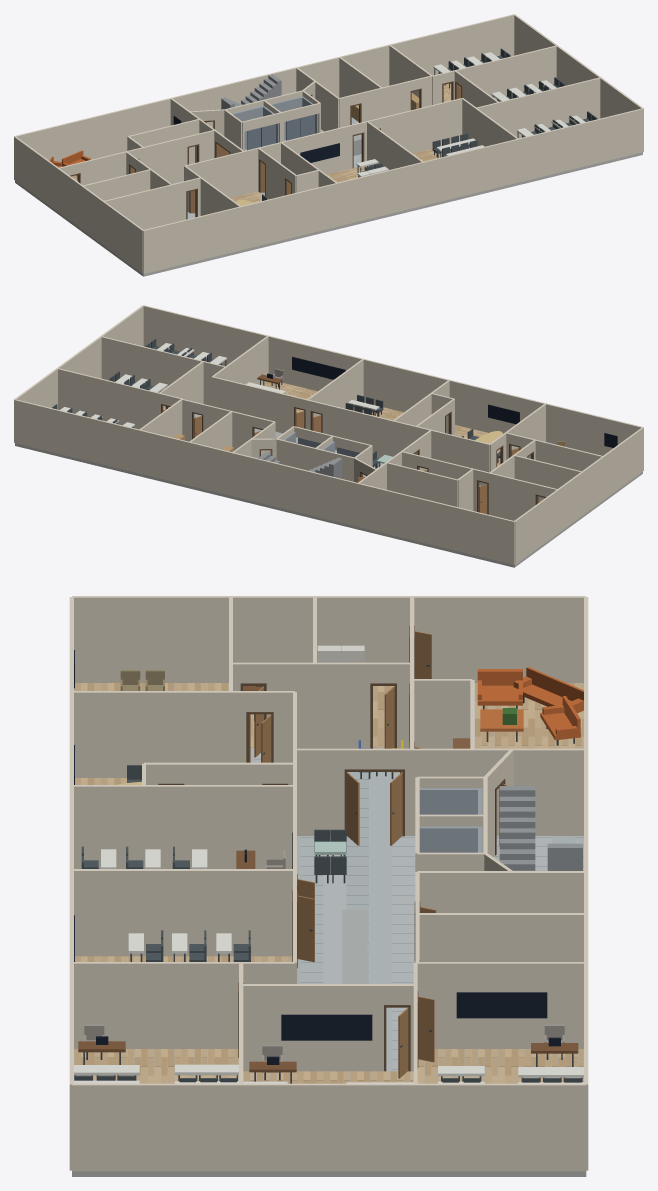
File: bau-floor-4.glb
3 renders of one model, top to bottom at view 1: azimuth 30°, elevation 25°; view 2: azimuth 150°, elevation 25°; view 3: azimuth 270°, elevation 25°, orthographic. The views are drawn at different scales.
Visible parts, largest first — view 1: Wall_20002, Wall_20000, Wall_20003, Wall_20012, Wall_20031_1, Wall_20029_2, Wall_20012_4, Wall_20001, Wall_20010, Floor_slab, Wall_20005_4, Wall_20028_2 (+22 smaller); view 2: Wall_20000, Wall_20002, Wall_20003, Wall_20012, Wall_20029_2, Wall_20031_1, Wall_20001, Wall_20012_4, Floor_slab, Wall_20006, Wall_20005_2, Wall_20019 (+18 smaller); view 3: Wall_20001, Wall_20003, Wall_20016, Wall_20015, Wall_20017, Wall_20011_2, Wall_20027, Wall_20030_2, Wall_20004, Wall_20026, Wall_20008_2, Wall_20025 (+24 smaller).
Boxes of the visible parts, box(x1,y1,x2,y2) form: Wall_20002: box(143, 108, 643, 273); Wall_20000: box(14, 14, 514, 161); Wall_20003: box(14, 136, 143, 273); Wall_20012: box(185, 125, 352, 197); Wall_20031_1: box(486, 77, 600, 138); Wall_20029_2: box(453, 45, 556, 99); Wall_20012_4: box(380, 98, 462, 153); Wall_20001: box(514, 14, 643, 151); Wall_20010: box(104, 181, 186, 229); Floor_slab: box(15, 152, 642, 276); Wall_20005_4: box(138, 136, 187, 183); Wall_20028_2: box(360, 81, 410, 122); Wall_20000: box(14, 399, 514, 564); Wall_20002: box(143, 305, 643, 455); Wall_20003: box(514, 427, 643, 564); Wall_20012: box(322, 403, 489, 485); Wall_20029_2: box(58, 368, 161, 429); Wall_20031_1: box(101, 336, 215, 405); Wall_20001: box(14, 305, 143, 442); Wall_20012_4: box(212, 376, 294, 433); Floor_slab: box(15, 443, 642, 567); Wall_20006: box(387, 462, 457, 506); Wall_20005_2: box(488, 473, 536, 520); Wall_20019: box(276, 438, 354, 481); Wall_20001: box(72, 1083, 585, 1171); Wall_20003: box(72, 596, 585, 682); Wall_20016: box(72, 869, 294, 956); Wall_20015: box(73, 785, 294, 868); Wall_20017: box(74, 962, 294, 1048); Wall_20011_2: box(73, 691, 246, 777); Wall_20027: box(415, 962, 584, 1048); Wall_20030_2: box(241, 984, 383, 1071); Wall_20004: box(405, 748, 585, 835); Wall_20026: box(419, 913, 583, 961); Wall_20008_2: box(266, 662, 370, 748); Wall_20025: box(417, 871, 585, 912).
Bounding box in the file's own units: 32.92 × 2.9 × 14.73.
